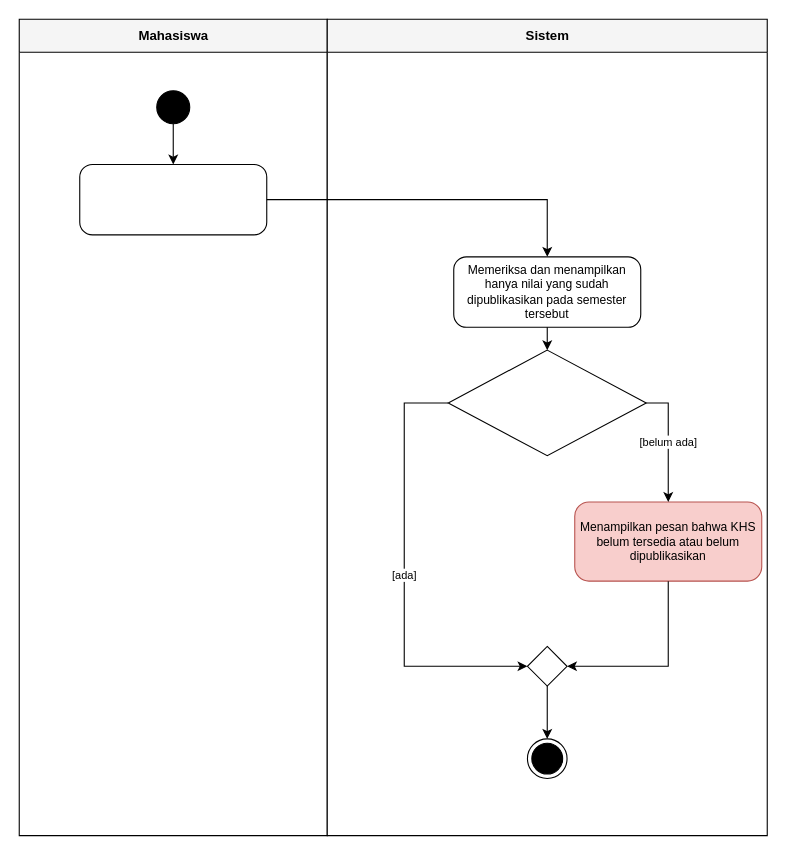
Some shapes in this 787 by 856 pixel diagram are drawn without their labels. Here are the shapes that lost their labels. From the top down, the centre of each, then its label:
the point at 173,199: Memilih menu Lihat KHS dan menentukan semester
the point at 546,402: Ada nilai yang sudah dipublikasikan?
